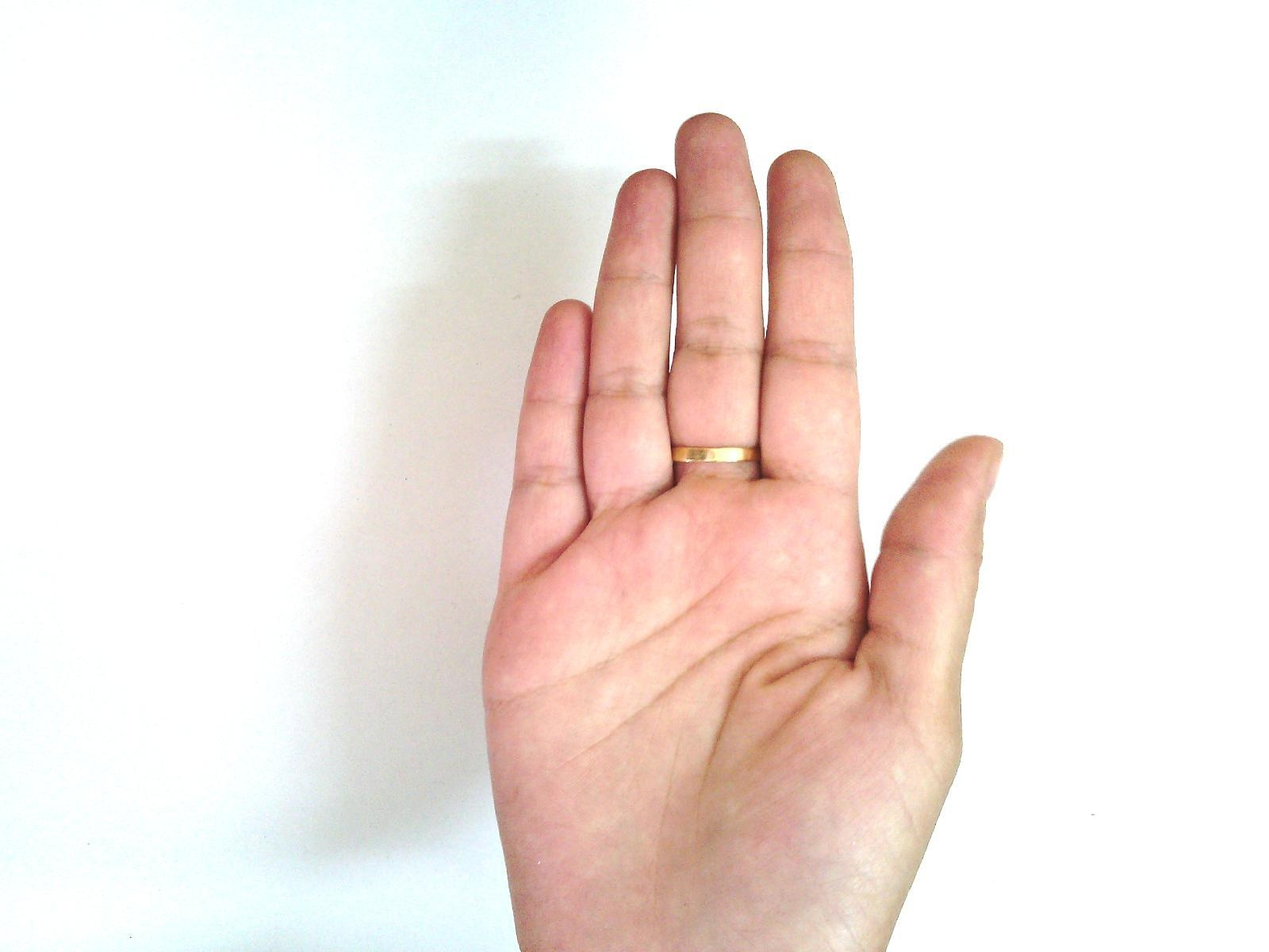open_palm: (477, 111, 1006, 951)
